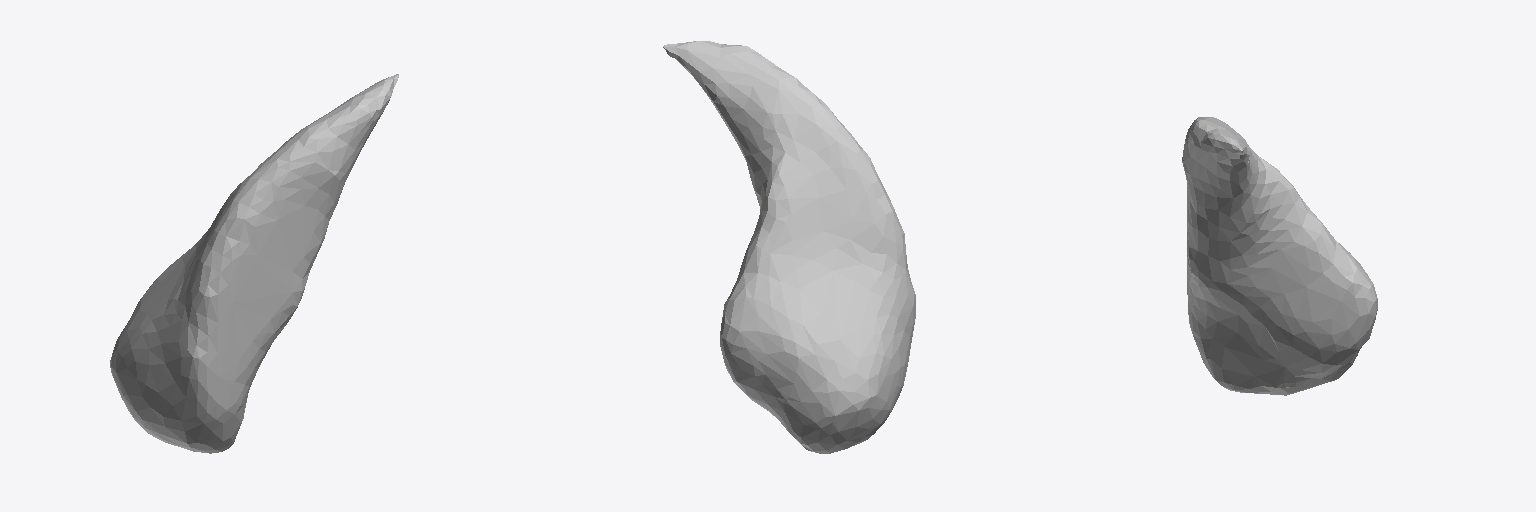
File: R-Amygdala.obj
3 renders of one model, left to right at view 1: azimuth 30°, elevation 25°; view 2: azimuth 150°, elevation 25°; view 3: azimuth 270°, elevation 25°, orthographic.
Visible parts, largest first — view 1: R-amygdala_amygdala.001; view 2: R-amygdala_amygdala.001; view 3: R-amygdala_amygdala.001.
Boxes of the visible parts, box(x1,y1,x2,y2) form: R-amygdala_amygdala.001: box(110, 74, 398, 453); R-amygdala_amygdala.001: box(663, 41, 915, 453); R-amygdala_amygdala.001: box(1182, 117, 1377, 395).
Bounding box in the file's own units: 22.36 × 29.15 × 15.26.